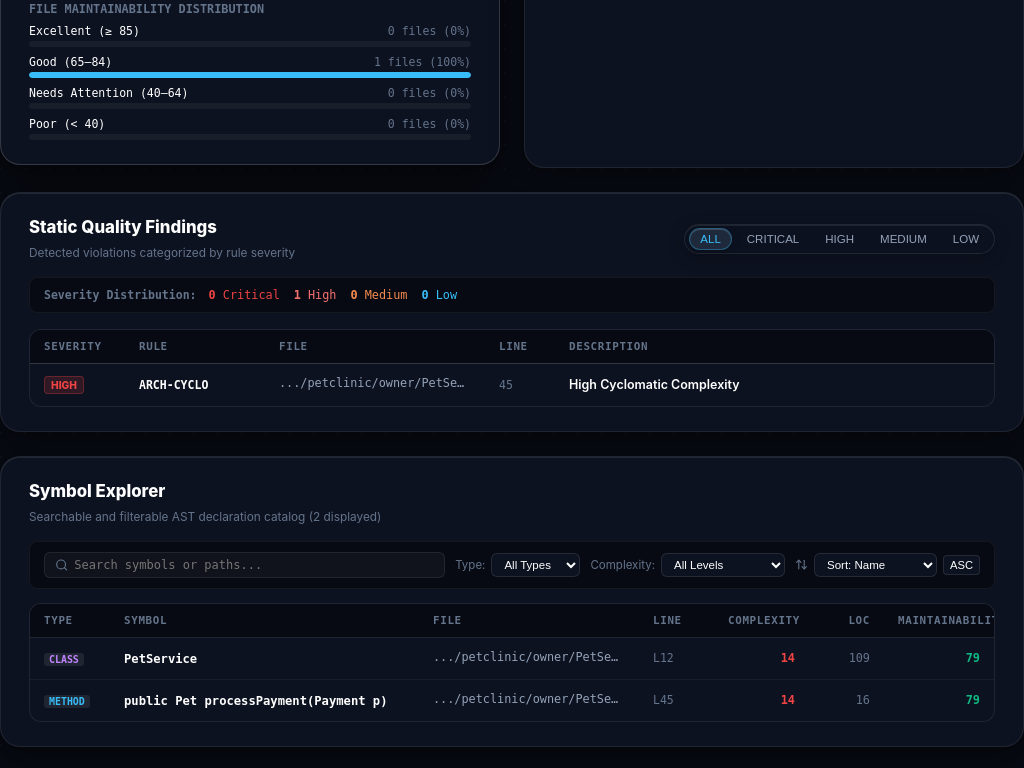
Test case: AnalysisPage Component › renders engineering overview, complexity analytics, maintainability threshold, and findings table
(page scrolled)
Expected: the text "File Maintainability Distribution" is shown, [29,2,264,16]
Expected: the text "ARCH-CYCLO" is shown, [139,378,208,392]
Note: Click finding row to open Inspector
Click the text "High Cyclomatic Complexity". click: (654, 385)
box: [569,377,740,392]
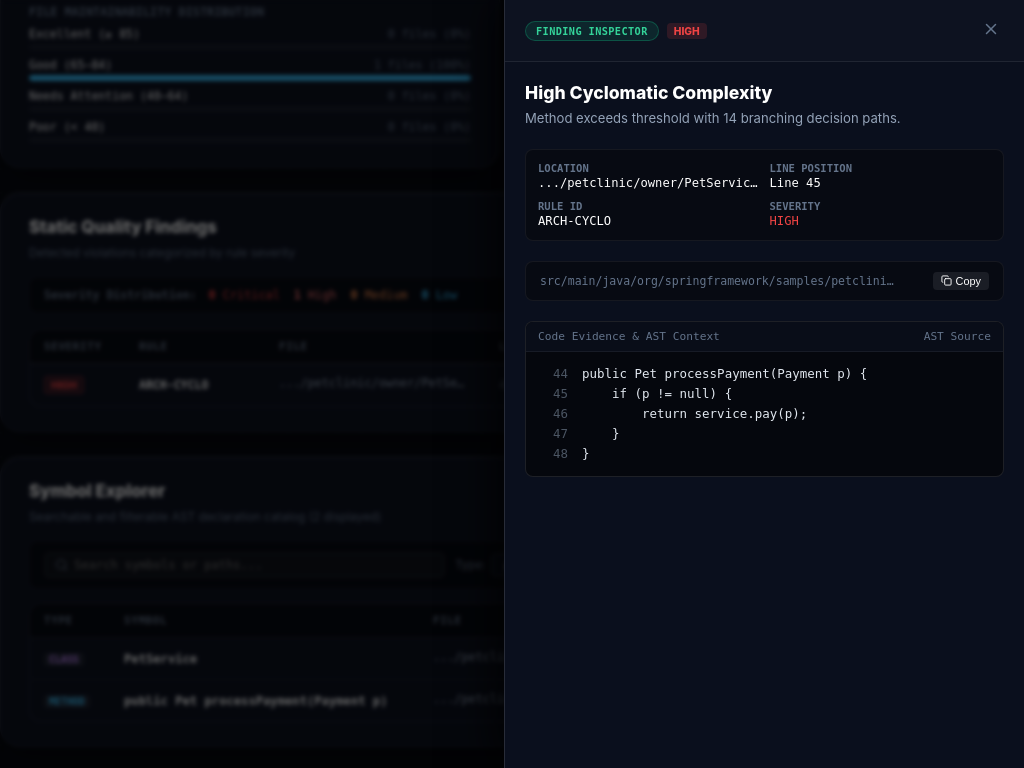
Result: the text "FINDING INSPECTOR" is shown at [525,20,659,40]
Result: the text "Code Evidence & AST Context" is shown at [538,330,720,343]
Result: the text "public Pet processPayment(Payment p) {" is shown at [582,364,867,384]
Note: Close Inspector
Click the button named "close inspector". click: (991, 30)
box: [978,16,1004,45]
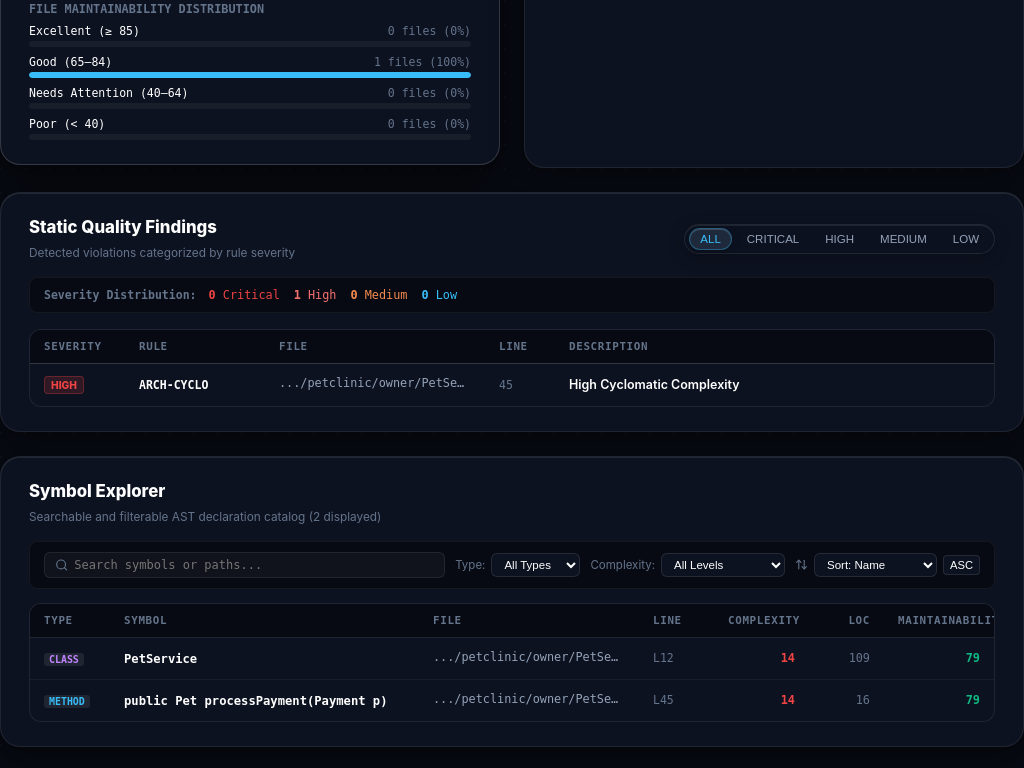
Result: the text "FINDING INSPECTOR" is gone
